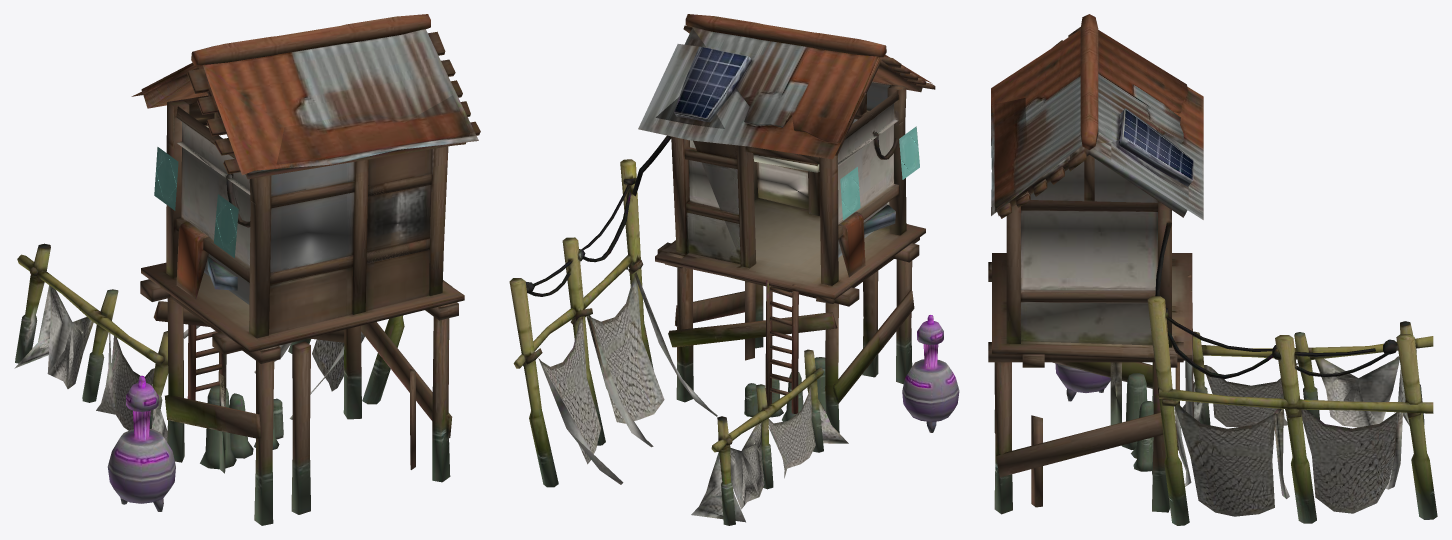
Rendered from fish_stakes.glb.
The picture shows the model from 3 angles, left to right: view 1: azimuth 30°, elevation 25°; view 2: azimuth 150°, elevation 25°; view 3: azimuth 270°, elevation 25°; orthographic projection. The views are drawn at different scales.
Visible parts, largest first — view 1: Body; view 2: Body; view 3: Body.
Boxes of the visible parts, bbox=[...] form: Body: bbox=[14, 14, 480, 525]; Body: bbox=[509, 14, 959, 525]; Body: bbox=[988, 14, 1437, 525].
Bounding box in the file's own units: 8.51 × 10 × 10.
1 material, 1 textured.
